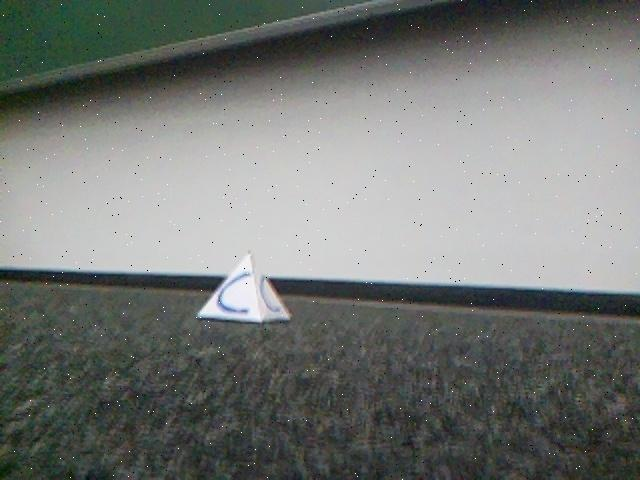C: (198, 251, 294, 325)
